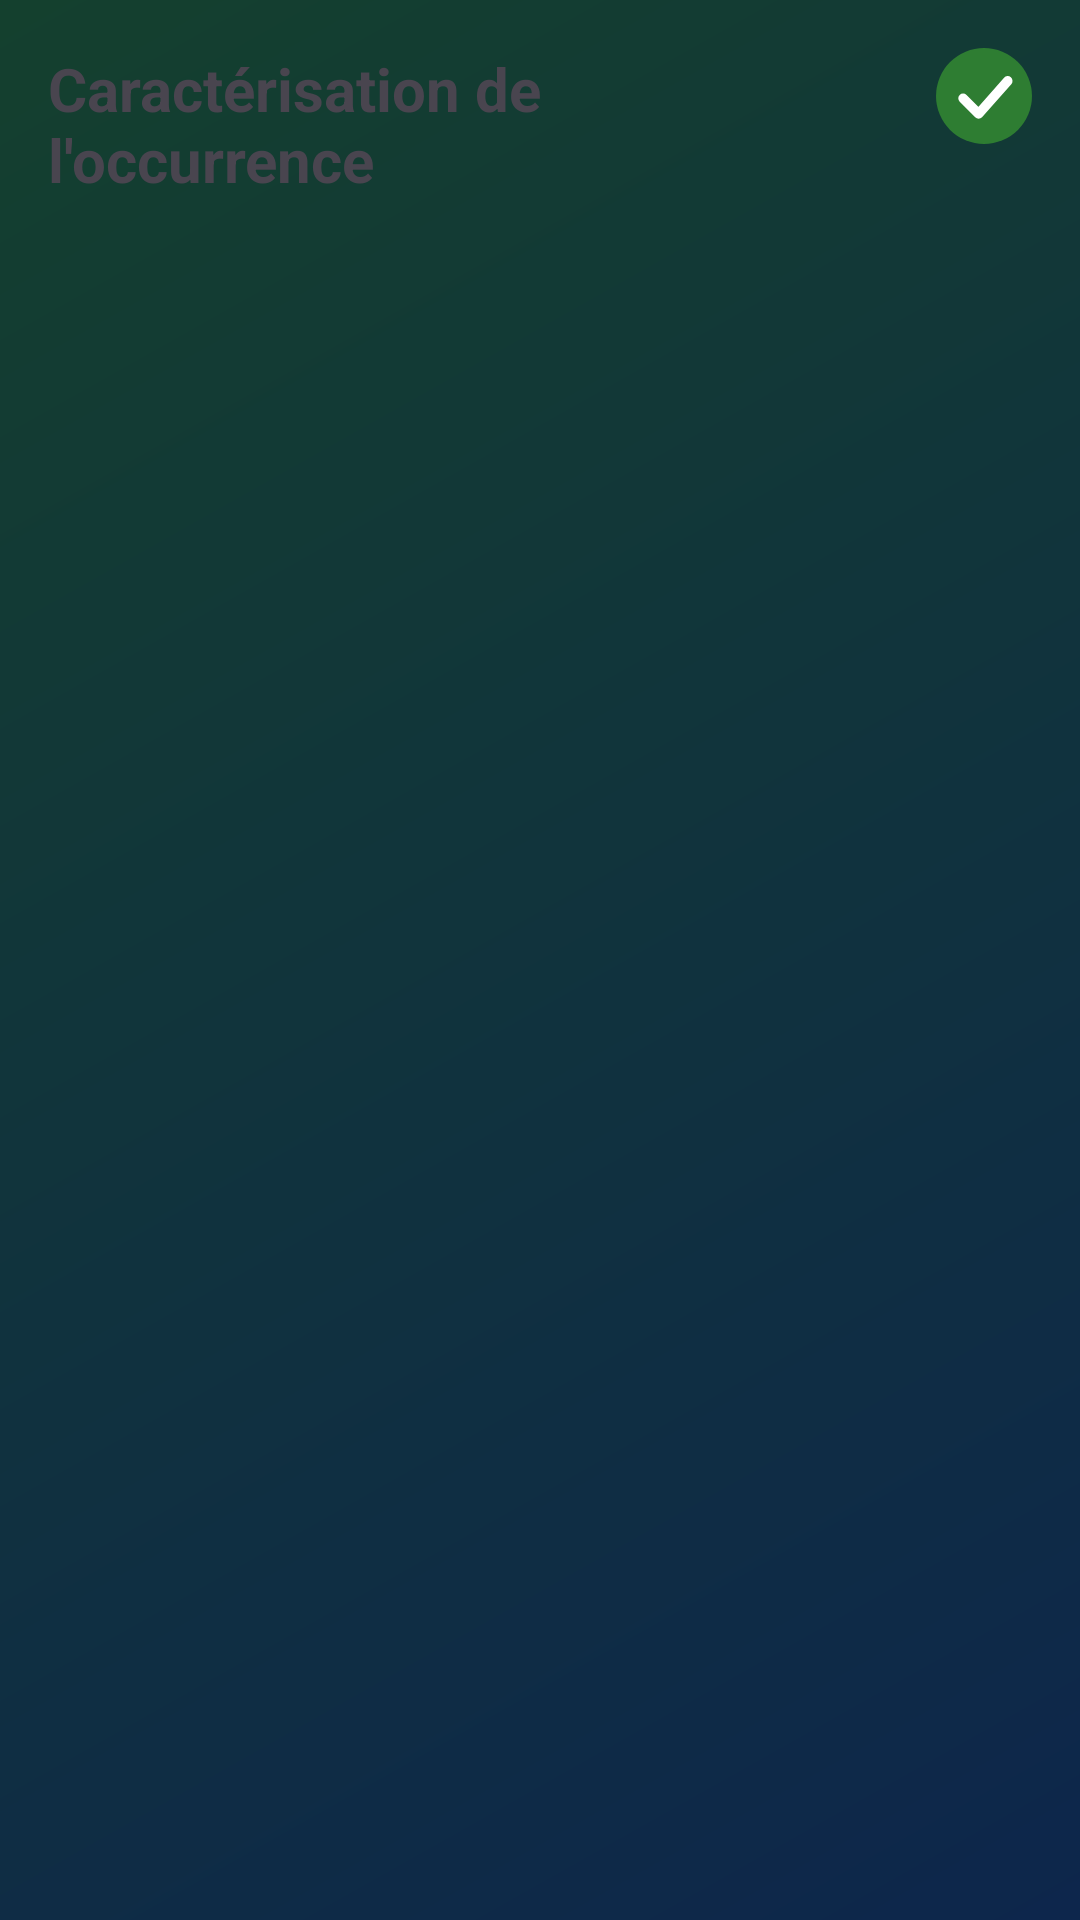

Icons on this 1080 × 1920 Android screen, each with the point to tap as (x,y):
Valider: (984,96)
